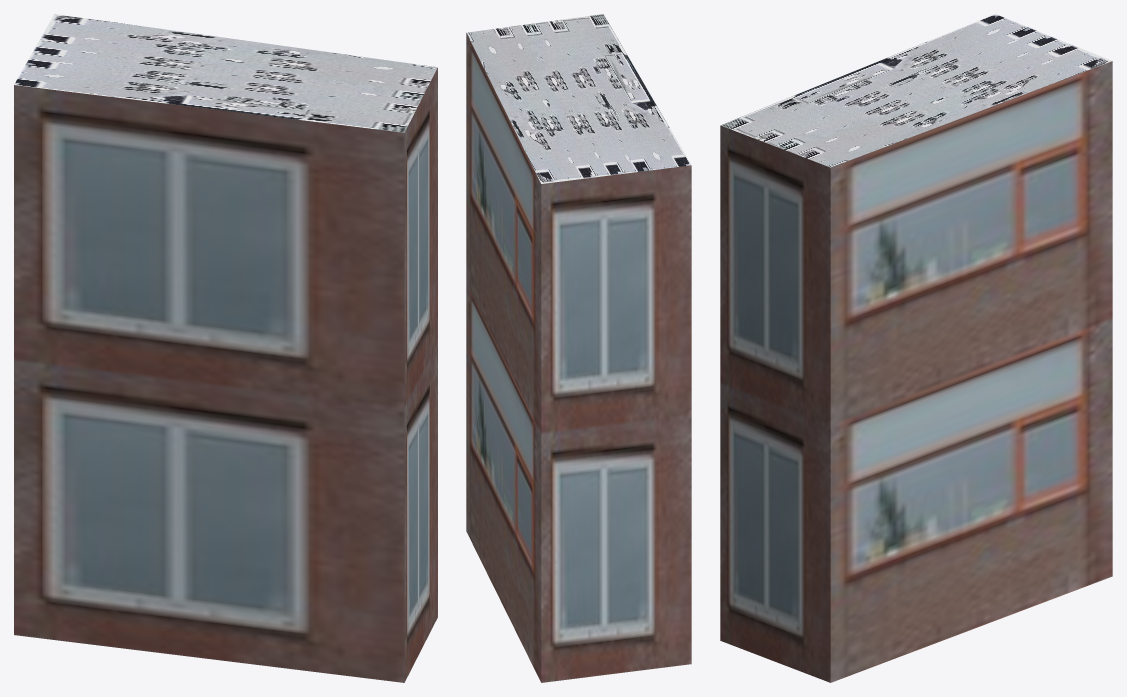
Rendered from ResTex__4732.fbx.
3 views of the same model, side by side, from view 1: azimuth 30°, elevation 25°; view 2: azimuth 150°, elevation 25°; view 3: azimuth 270°, elevation 25° (orthographic). The views are drawn at different scales.
Parts seen in each view (by area): view 1: CityEngineMaterial_19_m, CityEngineMaterial_15_m; view 2: CityEngineMaterial_19_m, CityEngineMaterial_15_m; view 3: CityEngineMaterial_19_m, CityEngineMaterial_15_m.
Part boxes in pixels (x1,y1,x2,y2): CityEngineMaterial_19_m: [14, 68, 437, 682]; CityEngineMaterial_15_m: [14, 14, 437, 132]; CityEngineMaterial_19_m: [466, 33, 691, 682]; CityEngineMaterial_15_m: [466, 14, 690, 183]; CityEngineMaterial_19_m: [720, 61, 1112, 682]; CityEngineMaterial_15_m: [720, 14, 1112, 167].
Size of the model in its own units: 3.84 by 6 by 4.14.
Materials: 2 (2 with a texture image).
